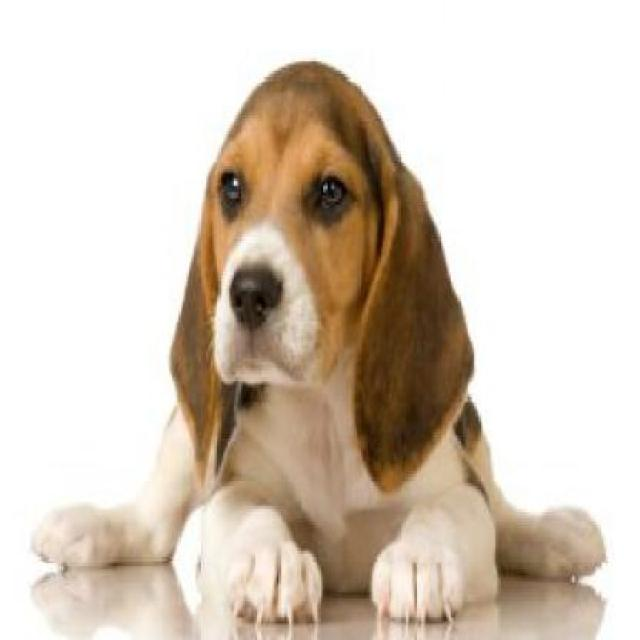Dog: (28, 60, 612, 629)
